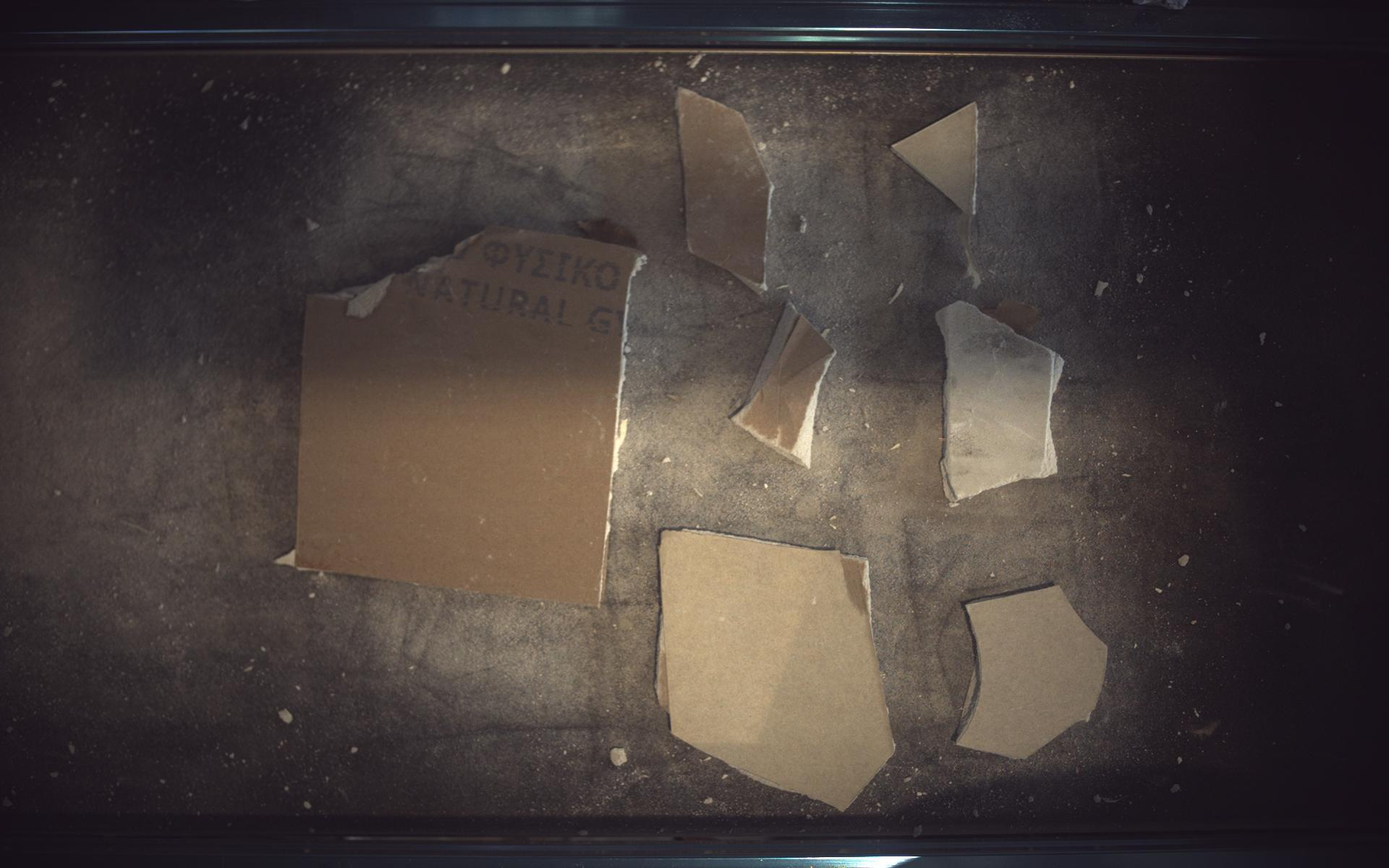gypsum_board: (294, 226, 646, 607), (657, 530, 896, 812), (956, 586, 1110, 760), (938, 301, 1066, 502), (678, 87, 775, 293), (733, 301, 836, 467), (893, 101, 980, 214)
